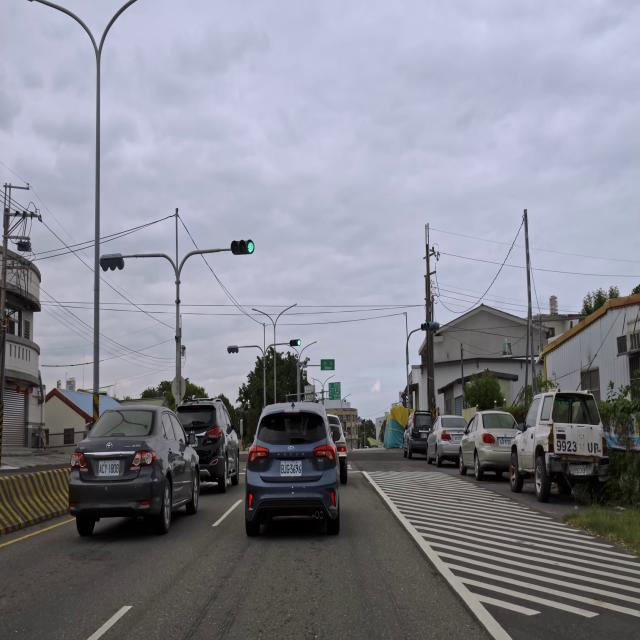green light: (231, 240, 254, 254), (289, 339, 301, 347)
